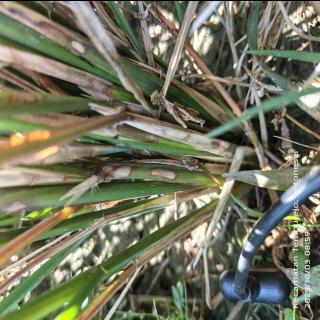Busuk-Pelepah: (113, 161, 184, 182), (117, 124, 161, 144)
